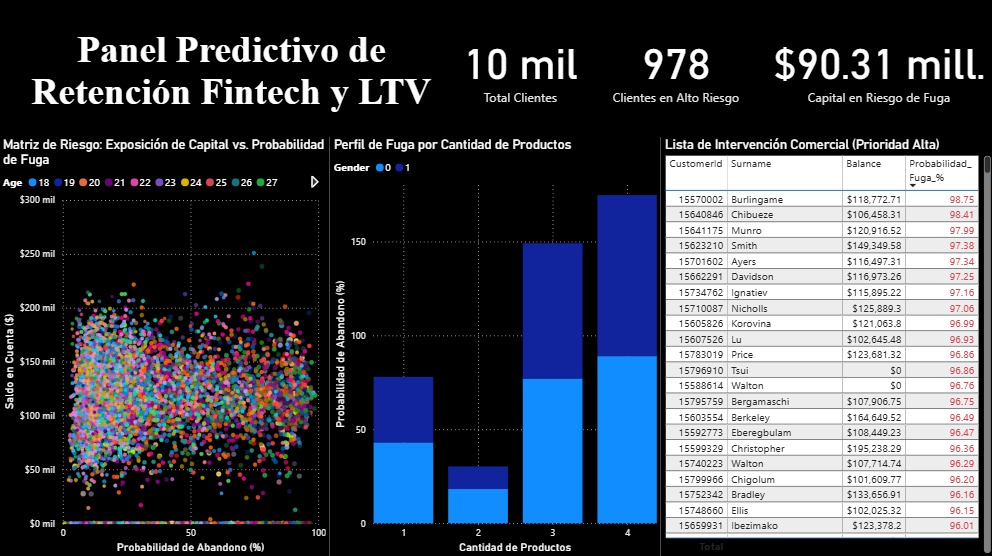

What the dashboard file says about the page in this screenshot:
{"tool":"powerbi","page":{"name":"Página 1","canvas":[1280,720],"ordinal":0},"visuals":[{"type":"card","fields":{"Values":["dashboard_data.Total Clientes"]},"box":[569.3,0,201.8,179.9],"z":0},{"type":"card","title":"\"Clientes en Alto Riesgo","fields":{"Values":["dashboard_data.Clientes en Peligro"]},"box":[758.2,0,223.6,179.9],"z":1000},{"type":"card","fields":{"Values":["dashboard_data.Capital en Riesgo"]},"box":[981.8,0,298.2,179.9],"z":2000},{"type":"scatterChart","title":"Matriz de Riesgo: Exposición de Capital vs. Probabilidad de Fuga","fields":{"X":["Avg(dashboard_data.Probabilidad_Fuga_%)"],"Y":["Sum(dashboard_data.Balance)"],"Category":["dashboard_data.CustomerId"],"Size":["Avg(dashboard_data.Age)"],"Series":["dashboard_data.Age"]},"box":[0,179.9,425.4,539.8],"z":3000},{"type":"columnChart","title":"Perfil de Fuga por Cantidad de Productos","fields":{"Y":["Avg(dashboard_data.Probabilidad_Fuga_%)"],"Category":["dashboard_data.NumOfProducts"],"Series":["dashboard_data.Gender"]},"box":[425.4,179.9,425.4,539.8],"z":4000},{"type":"tableEx","title":"Lista de Intervención Comercial (Prioridad Alta)","fields":{"Values":["dashboard_data.CustomerId","dashboard_data.Surname","dashboard_data.Balance","dashboard_data.Probabilidad_Fuga_%"]},"box":[850.8,179.9,429.2,539.8],"z":5000},{"type":"actionButton","box":[0,0,100,40],"z":6000},{"type":"textbox","box":[0,0,597.6,179.9],"z":6001}]}

Visuals, with their boxes in screenshot pixels (x1, y1, x2, y2), scaled from the page's 1280x720 canvas onto the 992x556 screenshot:
card - dashboard_data.Total Clientes: (left=441, top=0, right=598, bottom=139)
""Clientes en Alto Riesgo" card: (left=588, top=0, right=761, bottom=139)
card - dashboard_data.Capital en Riesgo: (left=761, top=0, right=991, bottom=139)
"Matriz de Riesgo: Exposición de Capital vs. Probabilidad de Fuga" scatterChart: (left=0, top=139, right=330, bottom=555)
"Perfil de Fuga por Cantidad de Productos" columnChart: (left=330, top=139, right=659, bottom=555)
"Lista de Intervención Comercial (Prioridad Alta)" tableEx: (left=659, top=139, right=991, bottom=555)
actionButton: (left=0, top=0, right=78, bottom=31)
textbox: (left=0, top=0, right=463, bottom=139)
